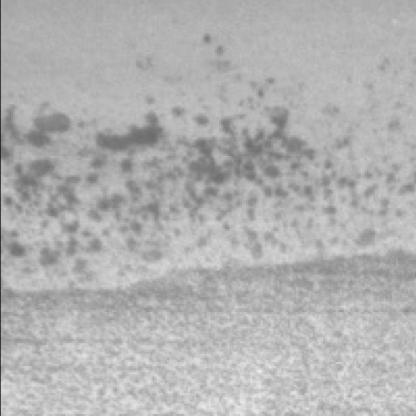pitted_surface: (0, 75, 389, 262), (0, 245, 410, 413)
